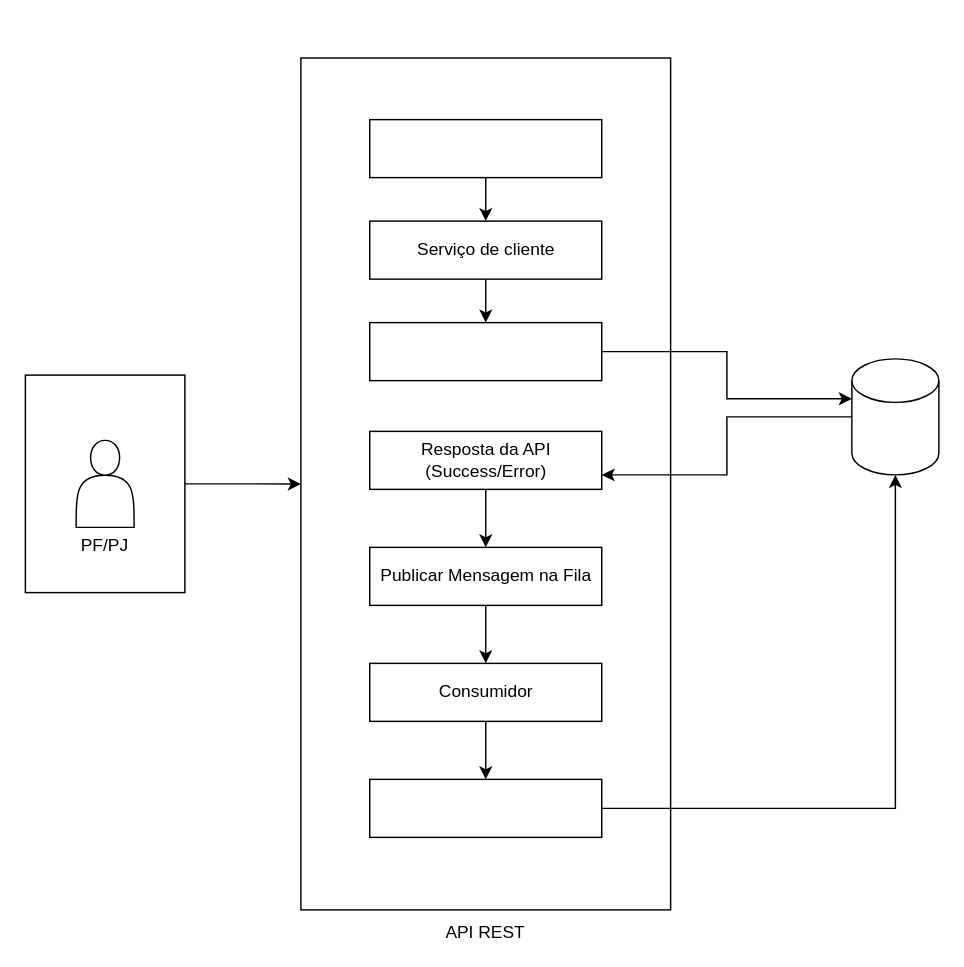
The diagram is 964 pixels wide and 967 high, and some of its shapes have lost their labels. Each missing label, with the box of its shape:
Atualizar status no banco de dados: (368, 778, 602, 837)
Repositório de cliente: (368, 321, 602, 381)
Validação dos dados: (368, 118, 602, 178)
